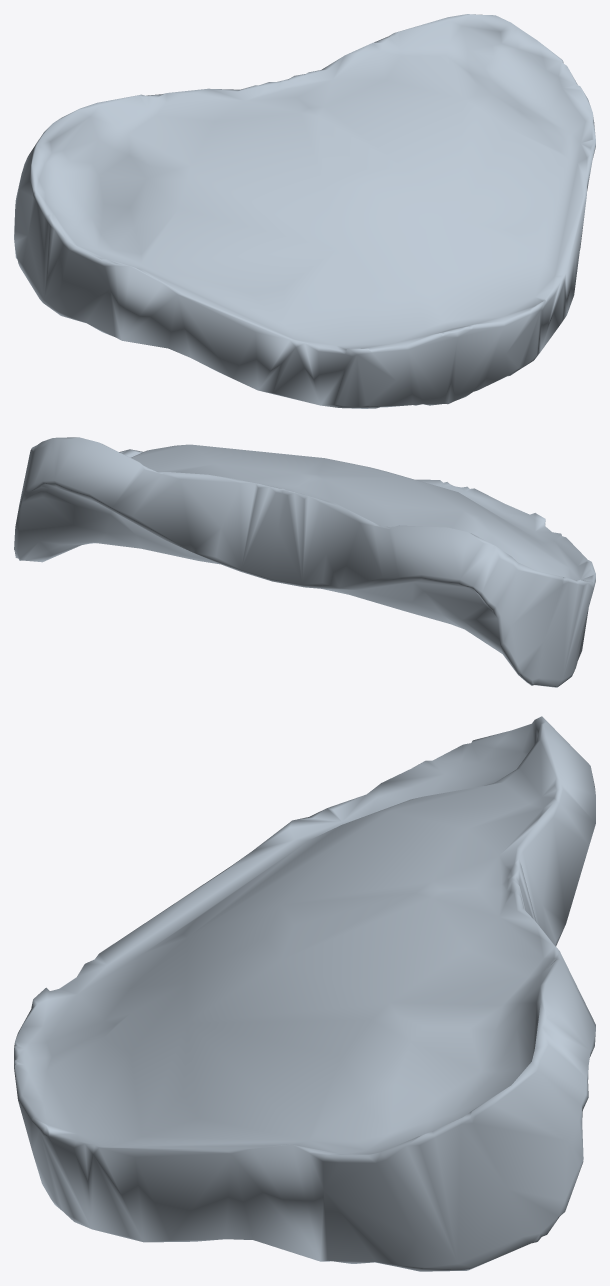
Rendered from intervertebral-disc-t2-t3.glb.
3 renders of one model, top to bottom at view 1: azimuth 30°, elevation 25°; view 2: azimuth 150°, elevation 25°; view 3: azimuth 270°, elevation 25°, orthographic. The views are drawn at different scales.
Visible parts, largest first — view 1: Intervertebral disc T2-T3; view 2: Intervertebral disc T2-T3; view 3: Intervertebral disc T2-T3.
Part boxes in pixels (<box>): Intervertebral disc T2-T3: <box>14,14,595,408</box>; Intervertebral disc T2-T3: <box>14,437,595,687</box>; Intervertebral disc T2-T3: <box>14,716,595,1271</box>.
Bounding box in the file's own units: 0.0344 × 0.0133 × 0.0226.
